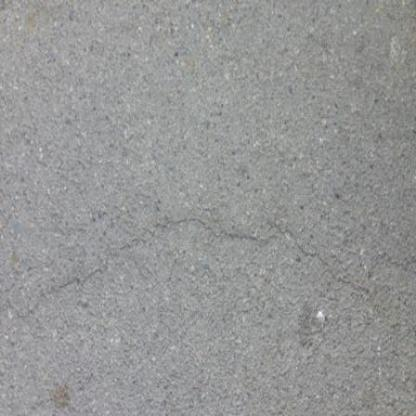Cracks: (0, 203, 416, 321)
